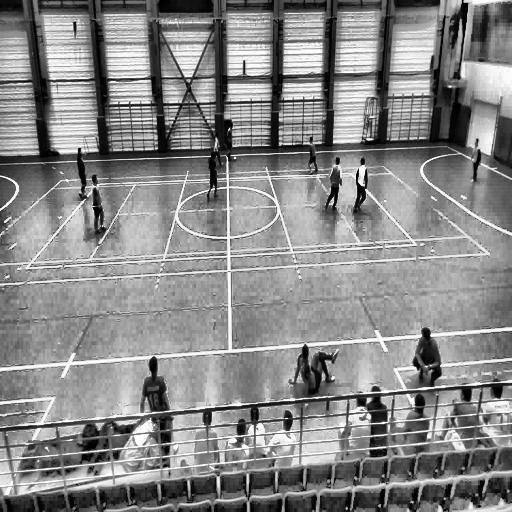ball: (232, 155, 238, 164)
player: (141, 357, 170, 433), (324, 156, 342, 211), (92, 173, 107, 235), (206, 140, 220, 200), (354, 156, 368, 213), (206, 130, 224, 169), (76, 146, 88, 200), (469, 136, 482, 185), (225, 120, 235, 163), (307, 136, 318, 172)
